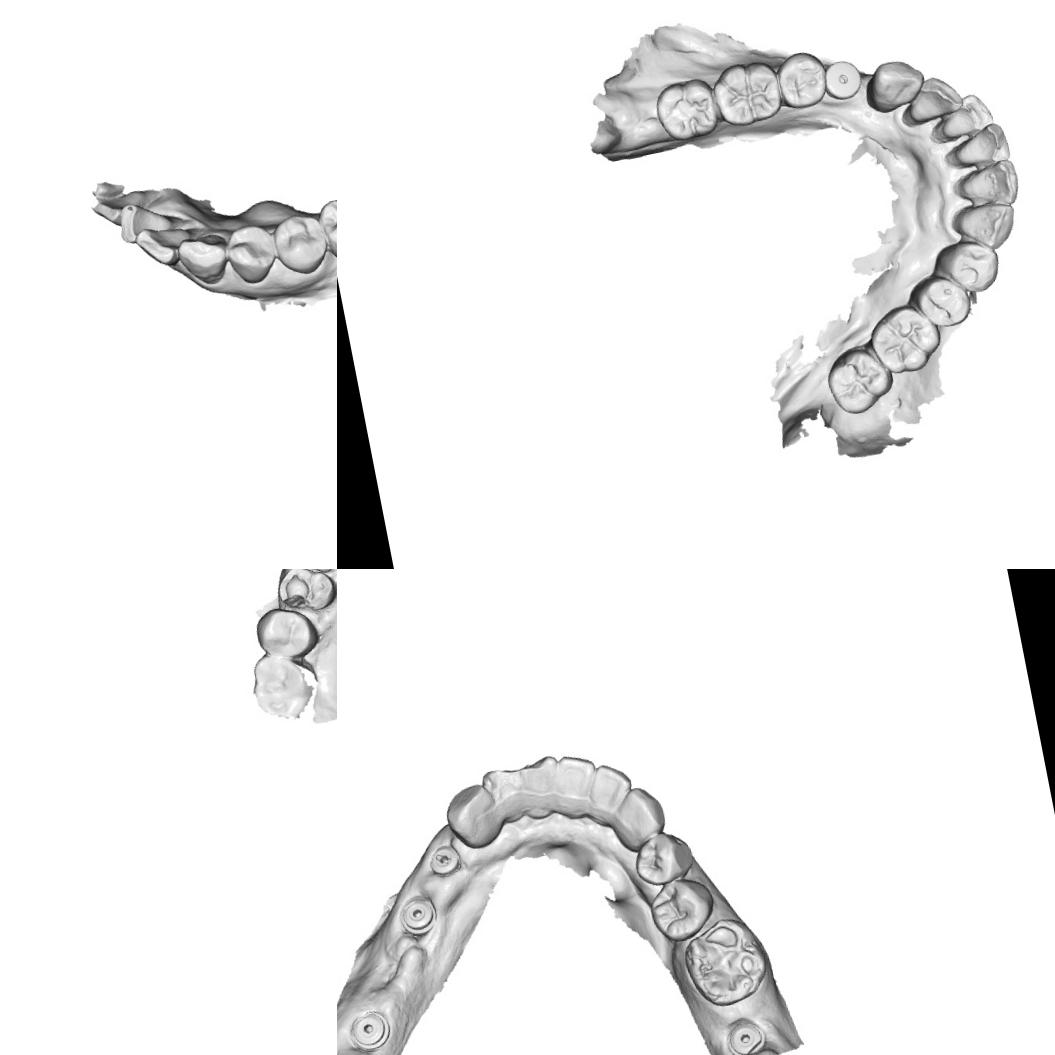canine: (438, 776, 510, 855), (944, 195, 1020, 258), (607, 780, 671, 852), (172, 225, 240, 291), (860, 52, 927, 114)
implant: (344, 1003, 396, 1053), (820, 56, 866, 106), (395, 892, 442, 940), (718, 1015, 768, 1055)
implant_minus: (423, 837, 467, 882)
incisor: (897, 68, 966, 136), (950, 154, 1024, 216), (581, 751, 639, 821), (514, 750, 568, 822), (478, 760, 534, 828), (551, 748, 604, 818), (933, 88, 998, 144), (134, 218, 197, 274), (948, 119, 1014, 171), (114, 194, 176, 247)
molar: (675, 910, 776, 1014), (864, 297, 948, 379), (818, 337, 900, 420), (706, 55, 786, 133), (649, 73, 724, 148), (313, 181, 337, 267)
premolar: (640, 870, 724, 948), (927, 232, 1007, 302), (244, 598, 322, 669), (903, 264, 974, 336), (220, 216, 286, 291), (270, 207, 334, 283), (628, 824, 698, 890), (770, 46, 832, 114), (270, 569, 337, 620)
